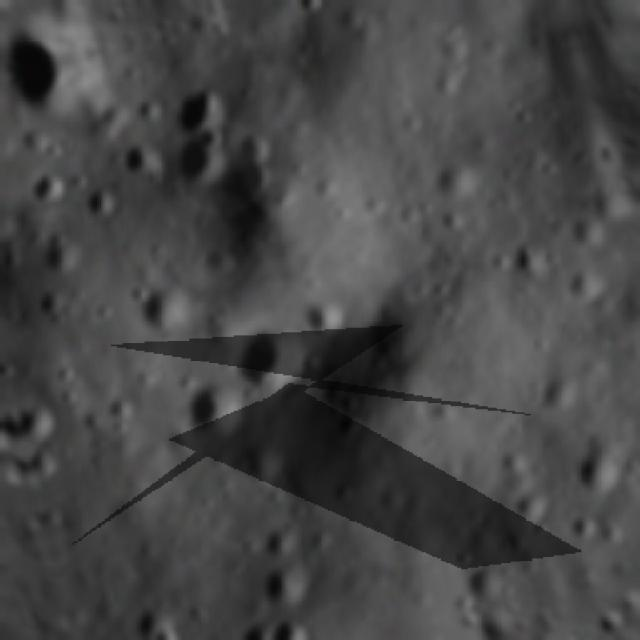crater: (225, 306, 317, 409), (174, 371, 257, 449), (156, 62, 236, 140), (559, 432, 630, 505), (257, 546, 331, 611), (158, 134, 228, 197), (32, 218, 90, 284), (295, 288, 356, 342), (133, 276, 187, 336), (15, 163, 71, 214), (12, 391, 58, 444), (503, 229, 552, 277), (78, 177, 124, 221), (26, 436, 62, 484), (264, 607, 313, 640), (635, 448, 640, 502)
